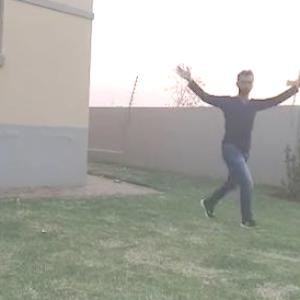takeoff: (173, 60, 299, 232)
